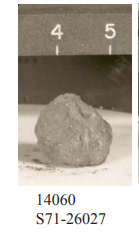Breccia: (28, 87, 123, 172)
